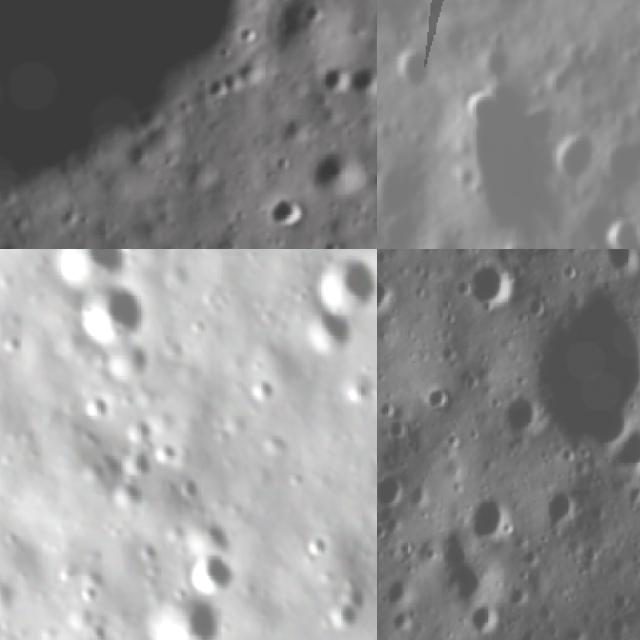crater: (537, 281, 640, 452), (71, 279, 151, 341), (314, 249, 377, 315), (143, 587, 220, 640), (466, 254, 522, 316), (458, 489, 516, 548), (301, 297, 359, 354), (100, 336, 162, 386), (546, 128, 600, 185), (488, 383, 544, 437), (460, 78, 512, 132), (184, 543, 239, 589), (539, 480, 587, 531), (390, 42, 434, 96), (53, 249, 120, 283), (320, 152, 370, 194), (606, 423, 640, 482), (261, 194, 309, 232), (413, 378, 456, 418), (117, 435, 154, 481), (377, 469, 413, 512), (602, 211, 640, 249), (122, 406, 162, 440), (377, 263, 401, 316), (80, 386, 114, 420), (342, 372, 375, 407), (248, 369, 280, 402), (322, 60, 349, 94), (304, 531, 328, 558)
